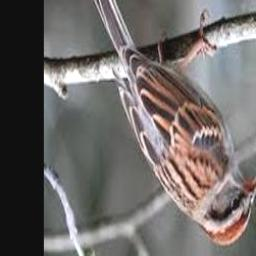Sparrow: (83, 0, 256, 246)
